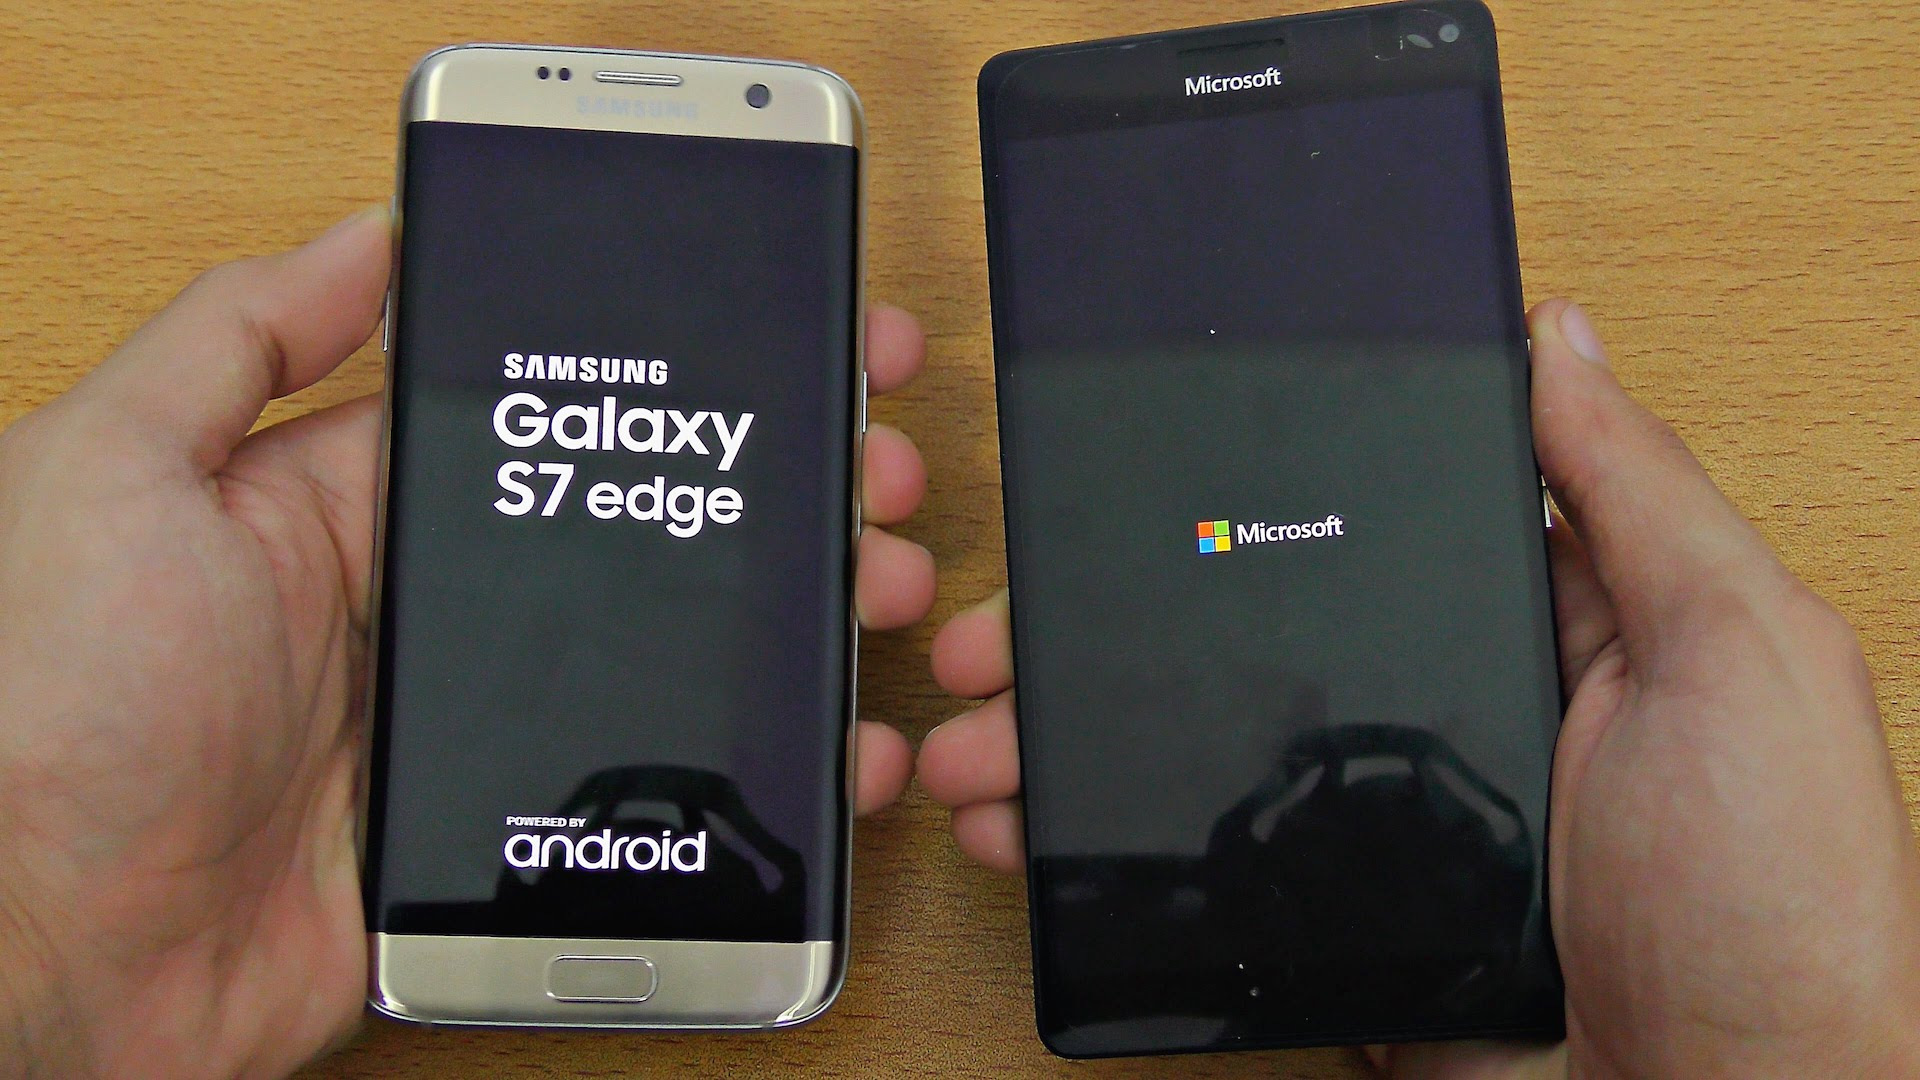smartphone: (975, 1, 1571, 1062), (363, 42, 866, 1036)
